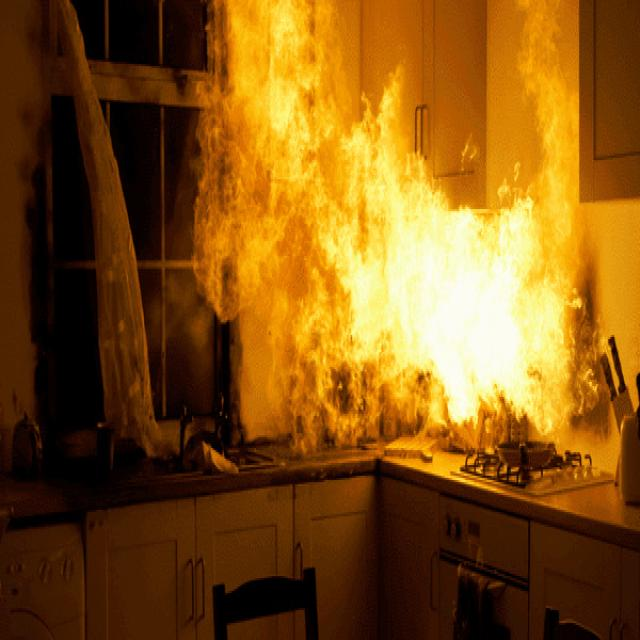fire: (342, 72, 598, 437), (194, 0, 342, 404)
